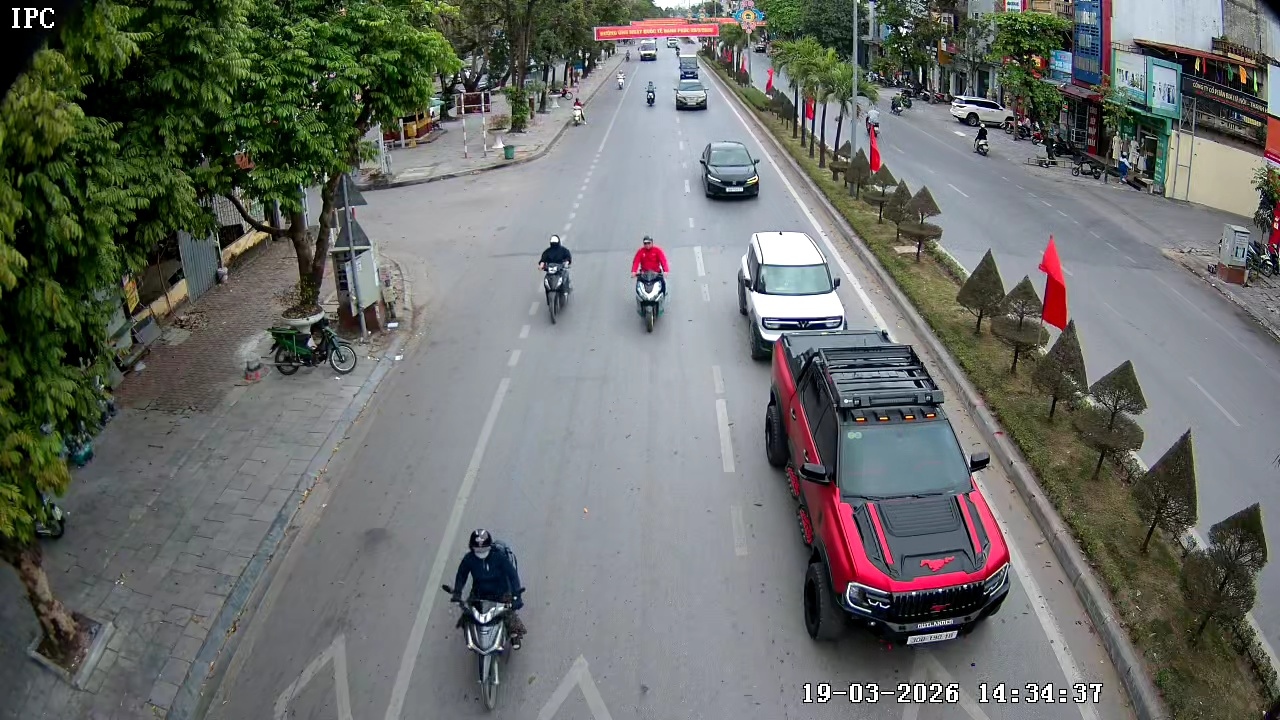car: (765, 337, 1013, 645), (736, 231, 847, 362), (699, 139, 761, 202), (673, 78, 709, 112)
motorbike: (439, 527, 528, 709), (262, 310, 360, 378), (628, 233, 671, 333), (536, 233, 575, 324), (643, 78, 659, 109), (572, 96, 588, 123), (615, 70, 629, 92)
truck: (679, 51, 700, 83)
